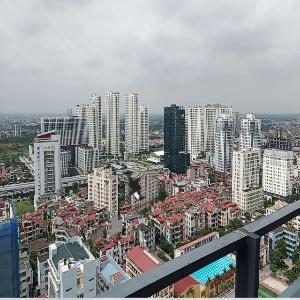drone: (104, 160, 160, 216)
